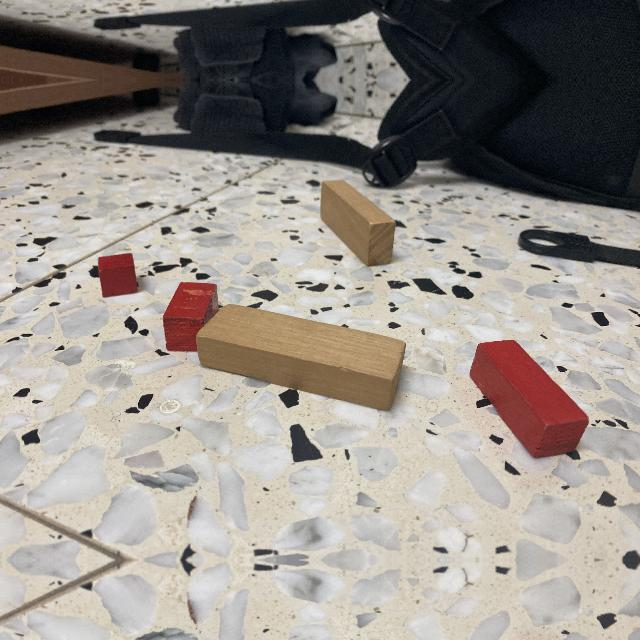jenga: (192, 306, 407, 413), (319, 180, 398, 267)
red block: (469, 340, 589, 460), (163, 282, 219, 355)
red cube: (98, 253, 139, 298)
